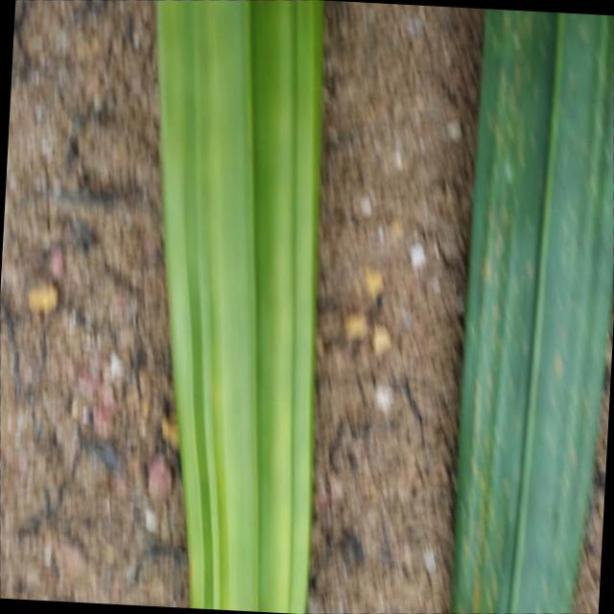nitrogen: (153, 0, 323, 614)
